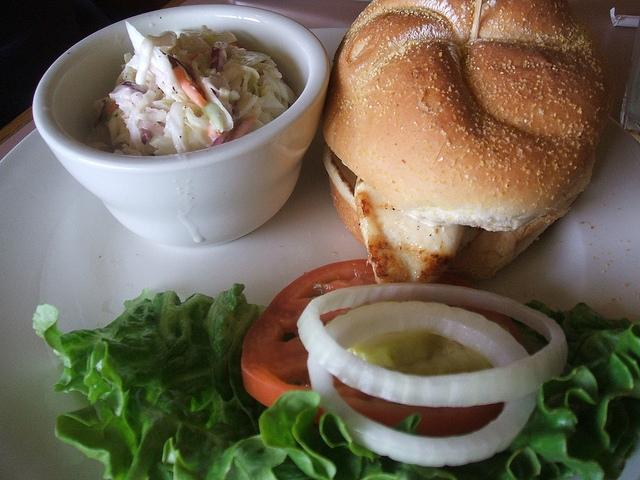carrot: (172, 68, 208, 107), (232, 114, 257, 140), (187, 49, 209, 60), (108, 103, 119, 115)
onion: (306, 300, 538, 468), (297, 283, 569, 409)
tomato: (242, 259, 504, 438)
